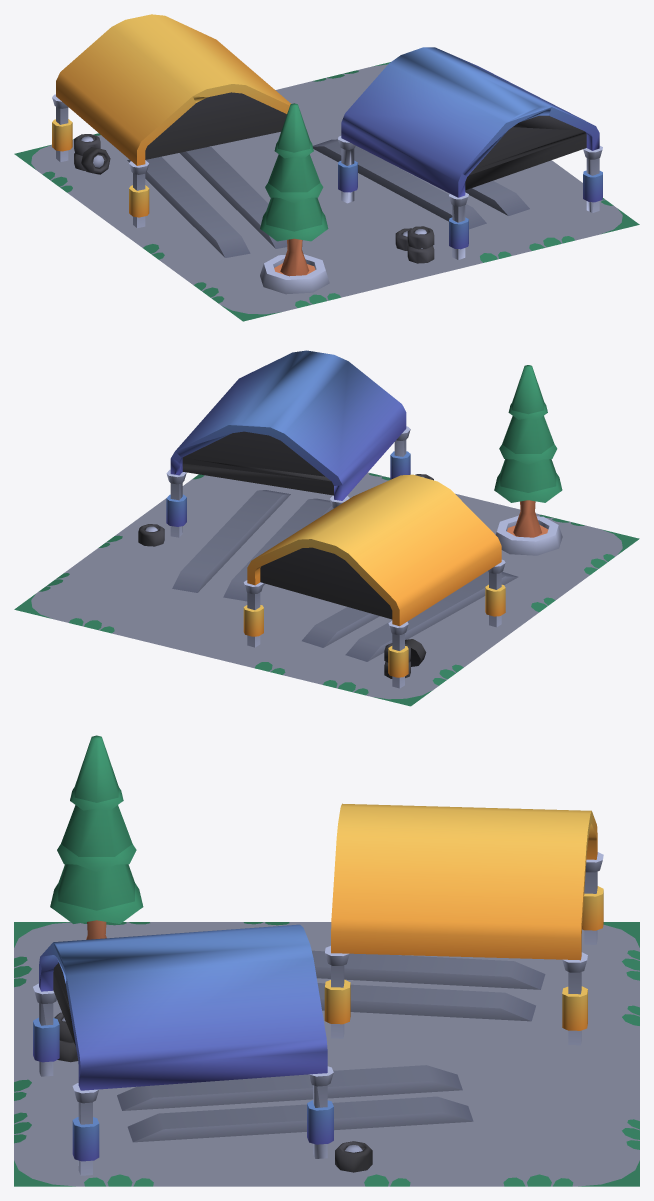
The model's file is track-tents.glb.
The picture shows the model from 3 angles, top to bottom: view 1: azimuth 30°, elevation 25°; view 2: azimuth 150°, elevation 25°; view 3: azimuth 270°, elevation 25°; orthographic projection. The views are drawn at different scales.
Visible parts, largest first — view 1: decoration-tents, decoration-tents.002, decoration-tents.012, tree.1, bump.1, bump.2, stuff.4, stuff.1; view 2: decoration-tents, decoration-tents.012, decoration-tents.002, tree.1, bump.2, bump.1, decoration-tents.005; view 3: decoration-tents, decoration-tents.002, decoration-tents.012, bump.2, tree.1, bump.1, decoration-tents.005.
Part boxes in pixels (<box>): decoration-tents: <box>14,62,639,321</box>; decoration-tents.002: <box>338,47,602,259</box>; decoration-tents.012: <box>52,14,290,228</box>; tree.1: <box>260,103,329,294</box>; bump.1: <box>127,147,287,257</box>; bump.2: <box>312,139,529,229</box>; stuff.4: <box>81,147,110,174</box>; stuff.1: <box>407,226,434,248</box>; decoration-tents: <box>14,472,639,706</box>; decoration-tents.012: <box>243,474,505,688</box>; decoration-tents.002: <box>166,350,410,537</box>; tree.1: <box>494,365,562,555</box>; bump.2: <box>172,490,333,601</box>; bump.1: <box>302,571,518,661</box>; decoration-tents.005: <box>138,524,164,546</box>; decoration-tents: <box>14,922,639,1186</box>; decoration-tents.002: <box>33,924,333,1175</box>; decoration-tents.012: <box>324,803,603,1045</box>; bump.2: <box>117,1065,473,1142</box>; tree.1: <box>50,735,143,939</box>; bump.1: <box>312,950,545,1021</box>; decoration-tents.005: <box>335,1141,372,1172</box>.
Bounding box in the file's own units: 10 × 4.2 × 10.
Materials: 1 (1 with a texture image).
